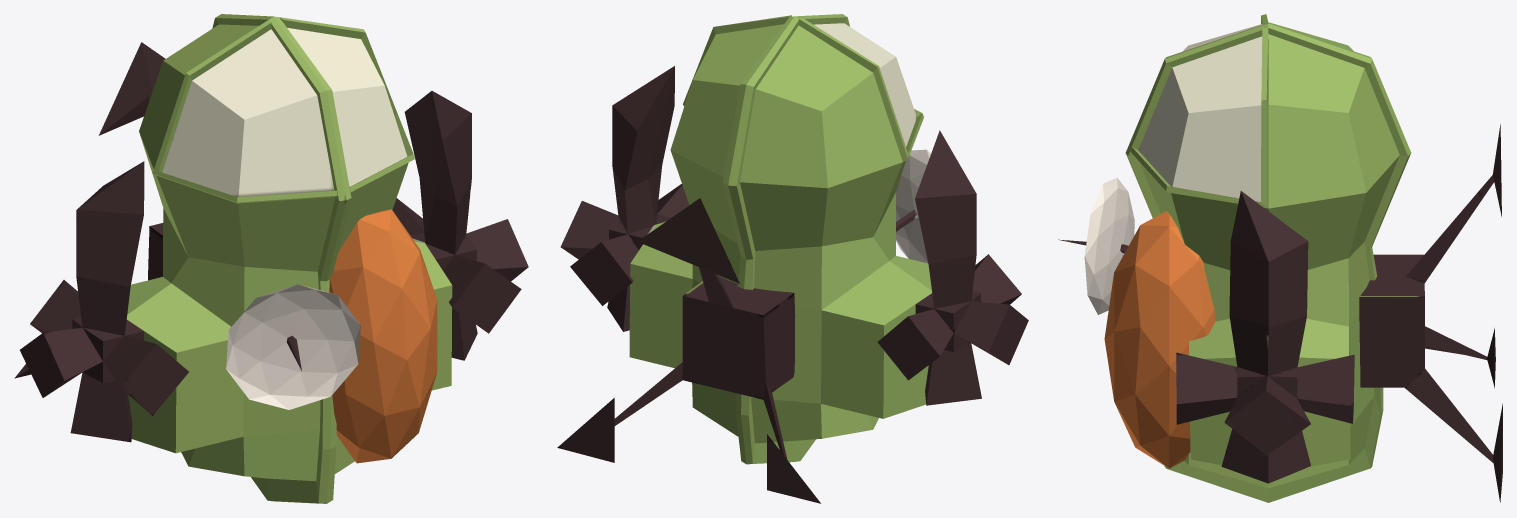
The model's file is ship.obj.
3 renders of one model, left to right at view 1: azimuth 30°, elevation 25°; view 2: azimuth 150°, elevation 25°; view 3: azimuth 270°, elevation 25°, orthographic. The views are drawn at different scales.
Visible parts, largest first — view 1: Cube.001; view 2: Cube.001; view 3: Cube.001.
Part boxes in pixels (x1,y1,x2,y2): Cube.001: (14, 14, 528, 503); Cube.001: (557, 14, 1028, 503); Cube.001: (1058, 14, 1502, 502).
Size of the model in its own units: 2.4 by 2.39 by 2.02.
1 material, 1 textured.
